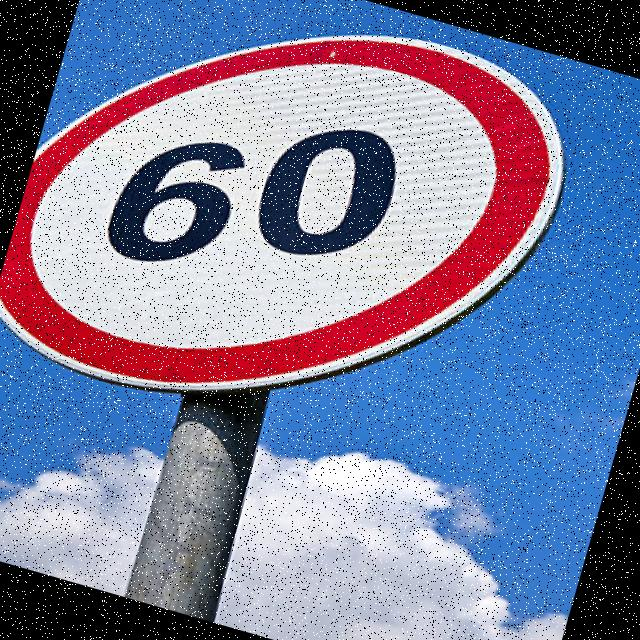speed_limit_60: (0, 0, 595, 486)
